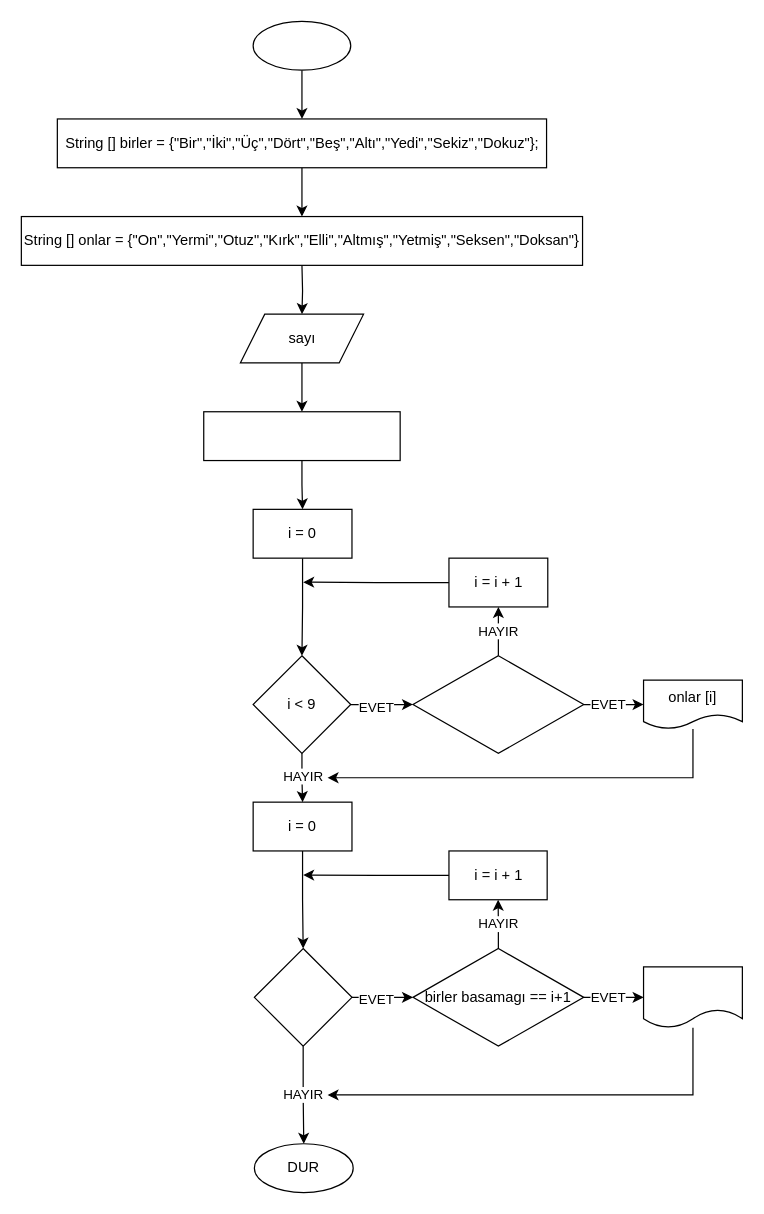
This 764x1214 diagram has some shape labels left out. The box of each missing label's shape, as (x1, y1, x2, y2) in pixels:
BAŞLA: (252, 20, 351, 70)
birler [i]: (642, 966, 742, 1028)
i <= 8: (253, 947, 352, 1046)
int onlarbasamagi = num/10 int birlerbasamagi = num%10: (203, 411, 400, 461)
onlar basamagı == i+1: (412, 655, 584, 753)
